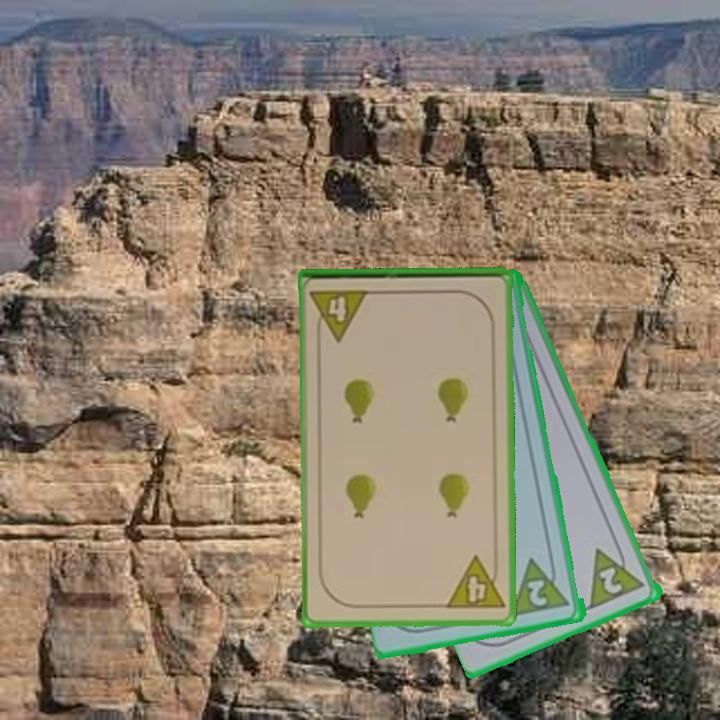2p: (586, 537, 648, 612), (509, 552, 574, 619)
4p: (442, 553, 507, 613), (307, 286, 372, 343)
